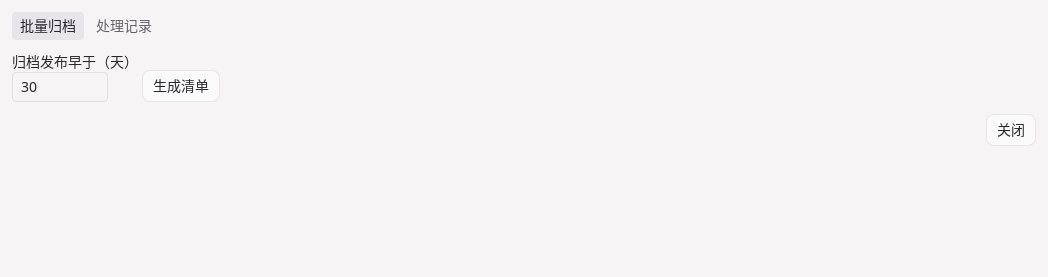
Test: New219InboxOpsPanel › 批量归档：条件清单 → 勾选 → 归档 → 收据 → 撤销
What coordinates should you click on to do the following:
click the button "生成清单"
I would click on:
 (181, 86)
Its box is [142,70,220,102].
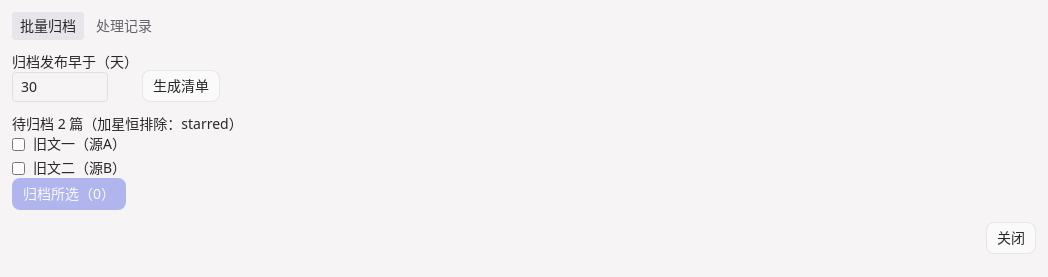
expect the element with test id "new219-preview" shows "待归档 2 篇": met, box [12,114,243,210]
What coordinates should you click on to do the following:
click the checkbox labelled "旧文一（源A）"
I would click on:
 (18, 144)
Its box is [12,138,25,150].
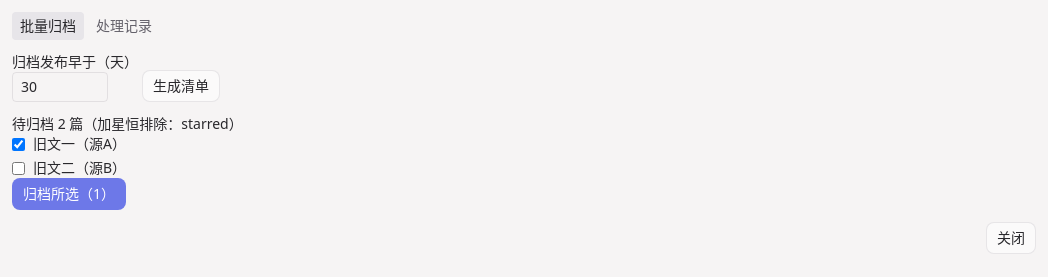
What coordinates should you click on to do the following:
click the button "归档所选（1）"
I would click on:
 (69, 194)
Its box is [12,178,126,210].
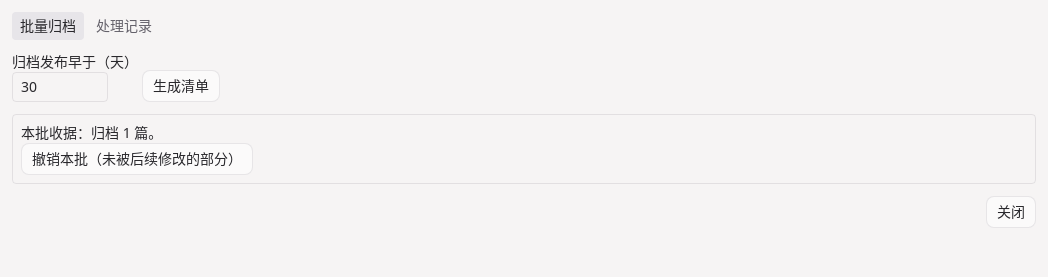
expect the element with test id "new219-receipt" shows "归档 1 篇": met, box [12,114,1036,184]
What coordinates should you click on to do the following:
click the button "撤销本批（未被后续修改的部分）"
I would click on:
 (137, 159)
Its box is [21,143,253,175].
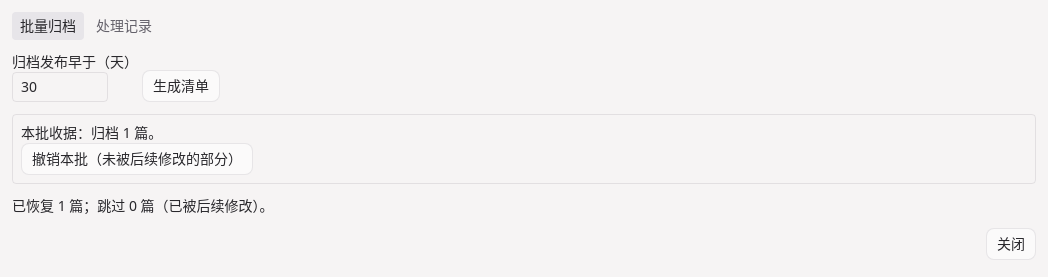
expect the message with test id "new219-undo-result" shows "已恢复 1 篇": met, box [12,196,274,215]
